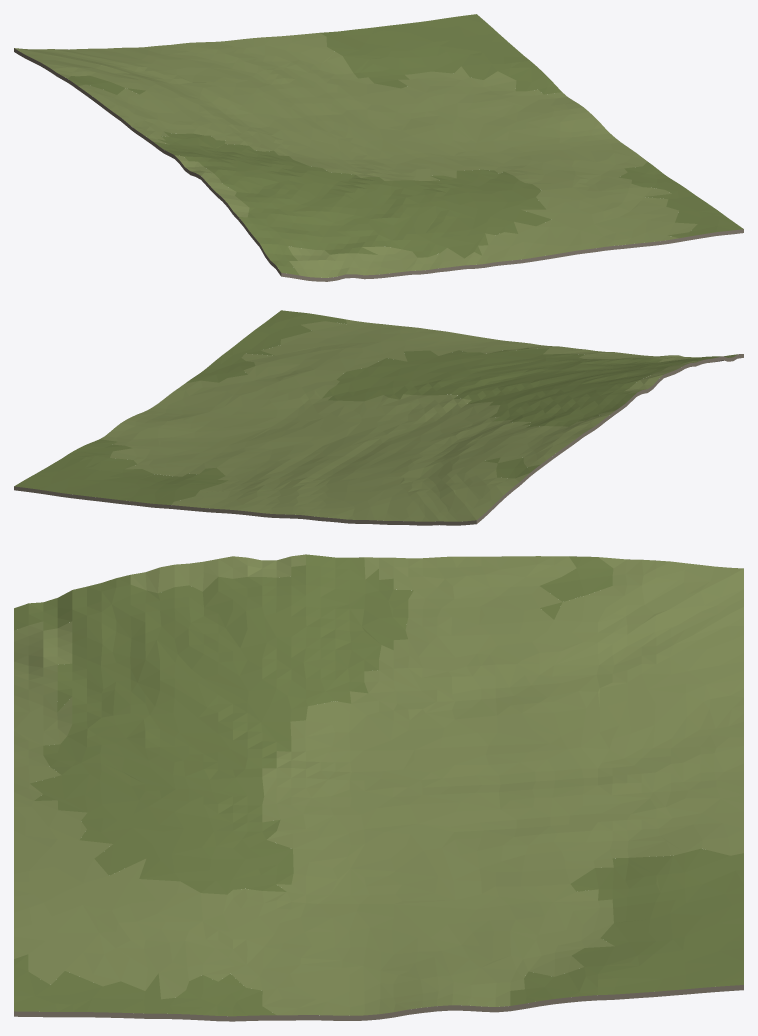
The model's file is parca_+10_-5-uzak.glb.
3 renders of one model, top to bottom at view 1: azimuth 30°, elevation 25°; view 2: azimuth 150°, elevation 25°; view 3: azimuth 270°, elevation 25°, orthographic. The views are drawn at different scales.
Parts seen in each view (by area): view 1: parca_+10_-5_arazi_uzak; view 2: parca_+10_-5_arazi_uzak; view 3: parca_+10_-5_arazi_uzak.
Part boxes in pixels (x1,y1,x2,y2): parca_+10_-5_arazi_uzak: (14, 14, 743, 281); parca_+10_-5_arazi_uzak: (14, 310, 743, 525); parca_+10_-5_arazi_uzak: (14, 554, 743, 1021).
Bounding box in the file's own units: 1000 × 240 × 1000.
